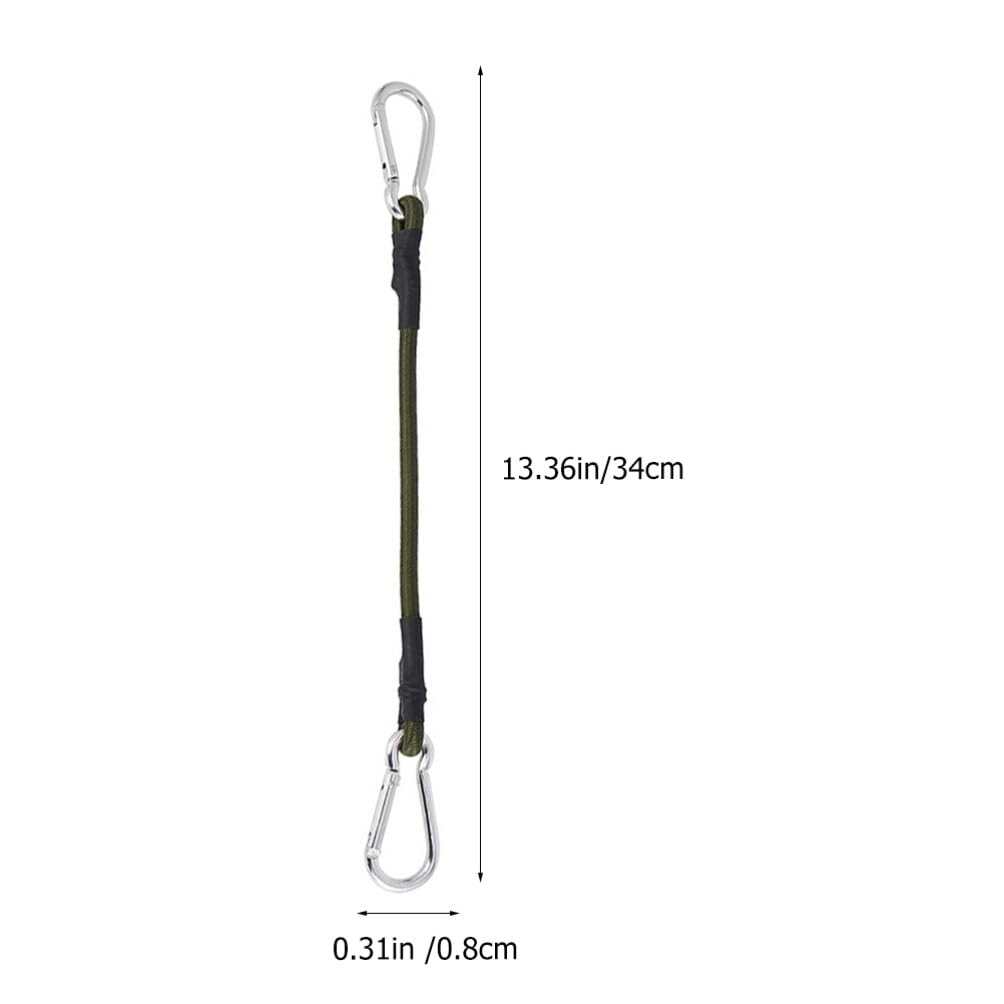/0.8cm: (425, 936, 516, 964)
0.31in: (334, 937, 413, 960)
13.36in/34cm: (504, 456, 683, 484)
